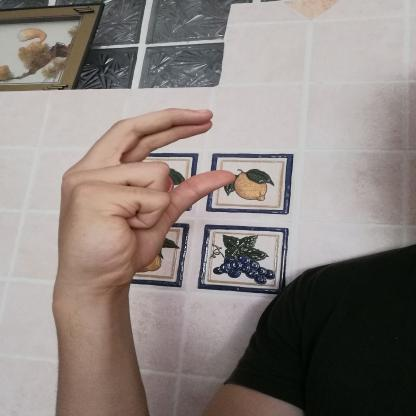DHELL: (43, 99, 247, 296)
